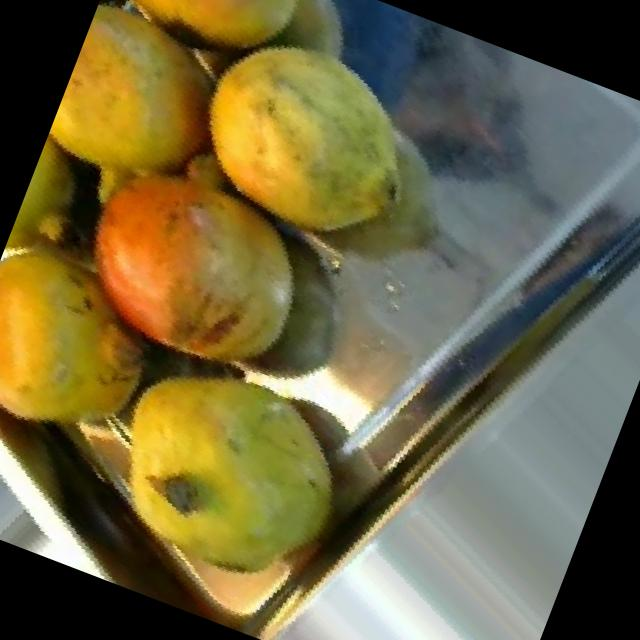fruit: (17, 110, 364, 430), (139, 0, 462, 283), (0, 179, 225, 491), (29, 0, 279, 248)
